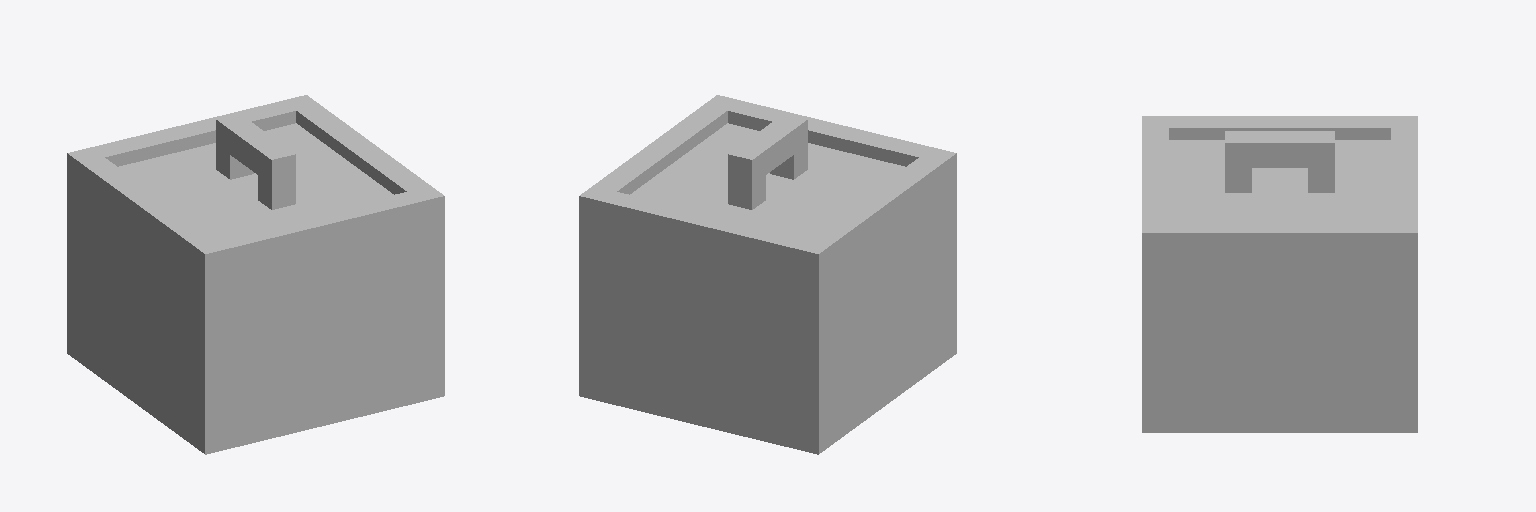
The model's file is strawChest.obj.
The picture shows the model from 3 angles: view 1: azimuth 30°, elevation 25°; view 2: azimuth 150°, elevation 25°; view 3: azimuth 270°, elevation 25°; orthographic projection.
Visible parts, largest first — view 1: westFace, northFace, topFace; view 2: eastFace, northFace, topFace; view 3: southFace, topFace.
Boxes of the visible parts, x1,y1,x2,y2 form: westFace: [105, 111, 444, 454]; northFace: [67, 111, 406, 453]; topFace: [68, 95, 443, 253]; eastFace: [579, 111, 918, 454]; northFace: [617, 111, 956, 453]; topFace: [580, 95, 955, 253]; southFace: [1142, 128, 1417, 432]; topFace: [1142, 116, 1417, 232].
Bounding box in the file's own units: 0.625 × 0.5938 × 0.625.